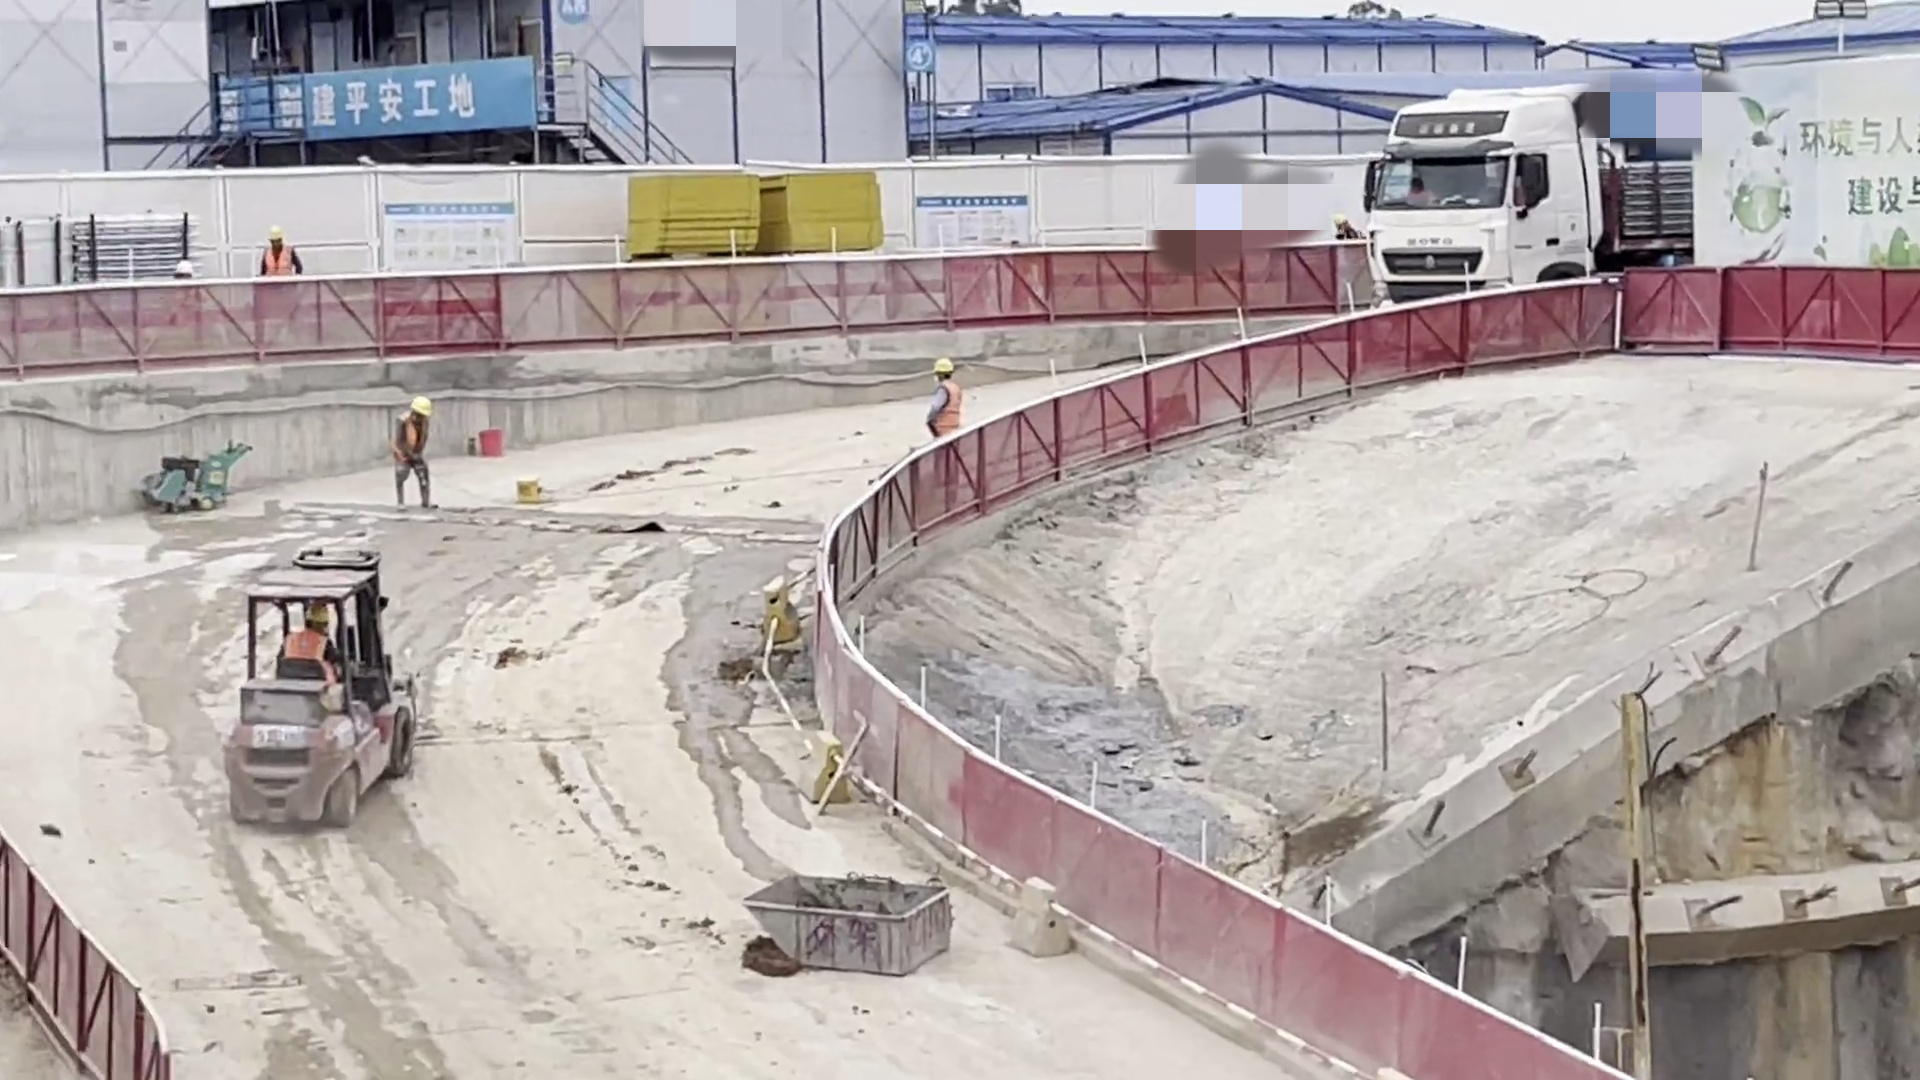board: (641, 161, 758, 250), (779, 166, 882, 260)
fence: (810, 489, 1750, 1080), (835, 270, 1920, 453), (29, 258, 1365, 350), (25, 839, 182, 1080)
helmet: (297, 598, 338, 627), (410, 387, 441, 422), (929, 354, 963, 376), (173, 253, 199, 281), (266, 223, 286, 245)
hopper: (759, 858, 966, 994)
person: (374, 384, 466, 531), (277, 596, 353, 696), (920, 348, 984, 444), (254, 218, 315, 298)
scaffold: (11, 194, 204, 284)
slogan: (1723, 79, 1920, 241), (275, 59, 532, 142)
vest: (284, 628, 347, 690), (927, 379, 978, 446), (392, 412, 438, 467), (261, 238, 301, 283)
